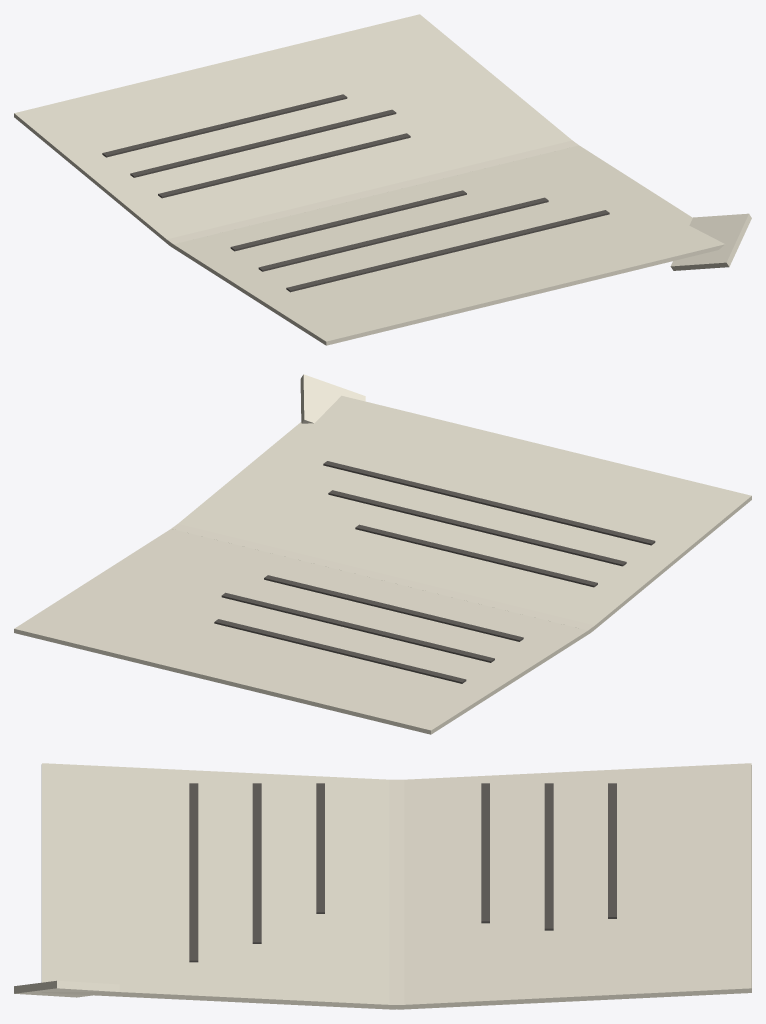
The model's file is note_paper.glb.
3 views of the same model, one above another, from view 1: azimuth 30°, elevation 25°; view 2: azimuth 150°, elevation 25°; view 3: azimuth 270°, elevation 25° (orthographic). The views are drawn at different scales.
Visible parts, largest first — view 1: Note; view 2: Note; view 3: Note.
Part boxes in pixels (x1,y1,x2,y2): Note: (14, 14, 751, 345); Note: (14, 374, 751, 734); Note: (14, 763, 751, 1009).
Size of the model in its own units: 0.2238 by 0.0234 by 0.2908.
